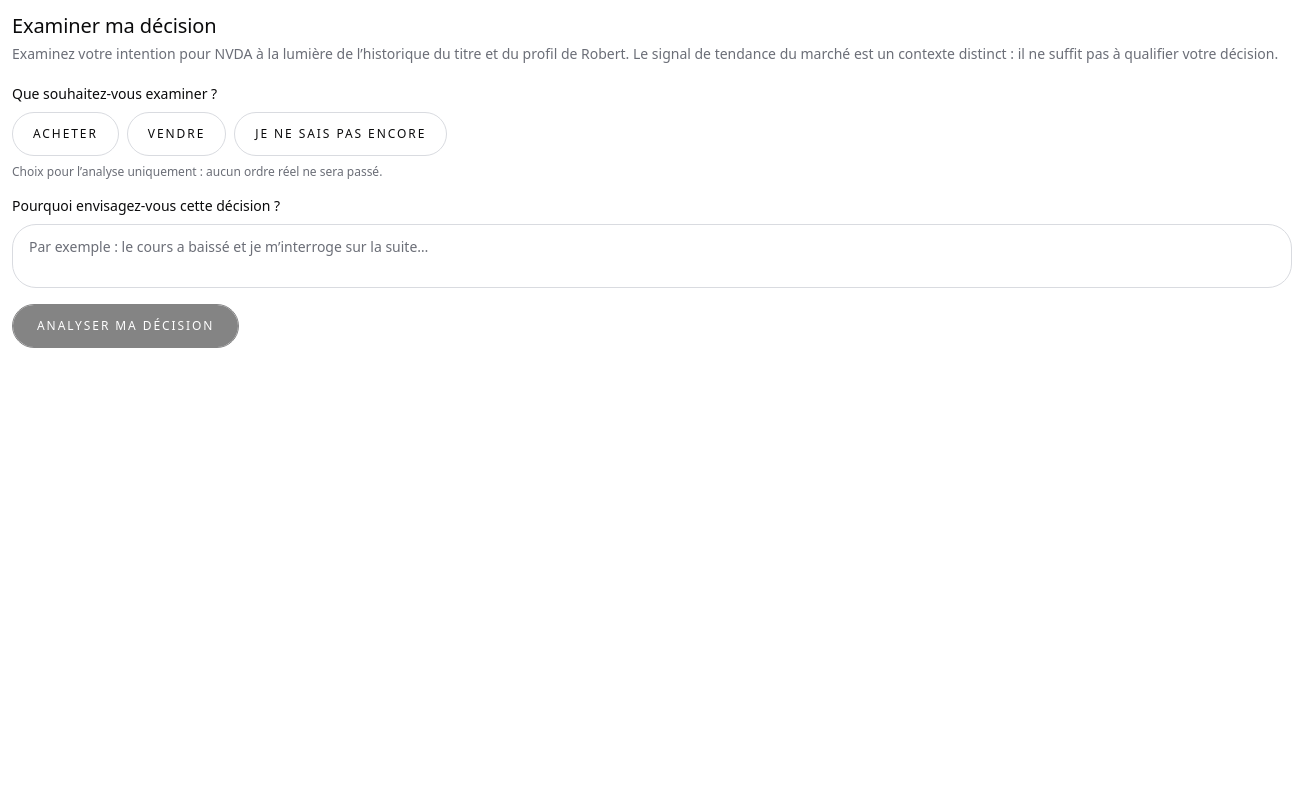
Test case: sends the selected title, active profile and message and shows a limited result
In the text box labelled "Pourquoi envisagez-vous cette décision ?": (652, 256) [12,224,1292,288], type "Je veux tout vendre"
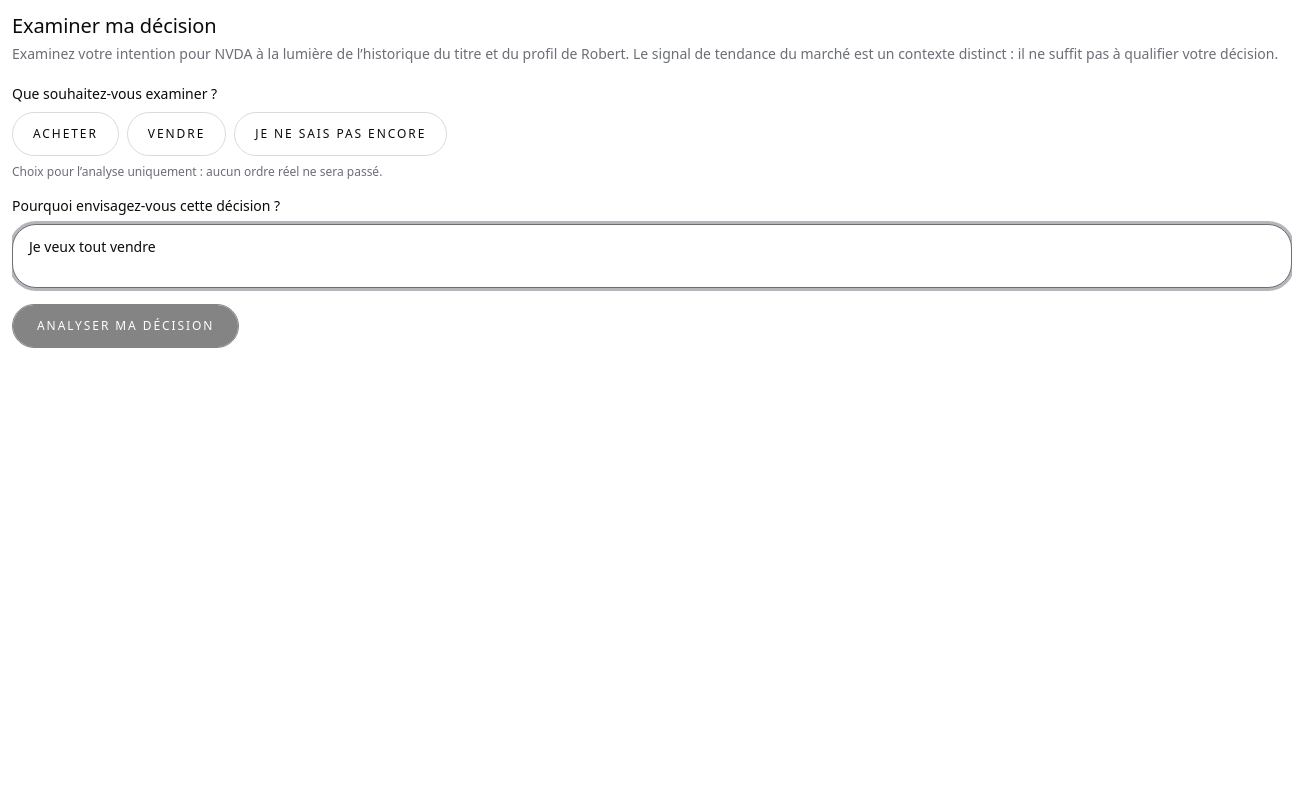
Expected: the button "Analyser ma décision" is disabled, [12,304,239,348]
Click the radio button labelled "Vendre": (176, 134) [127,112,226,156]
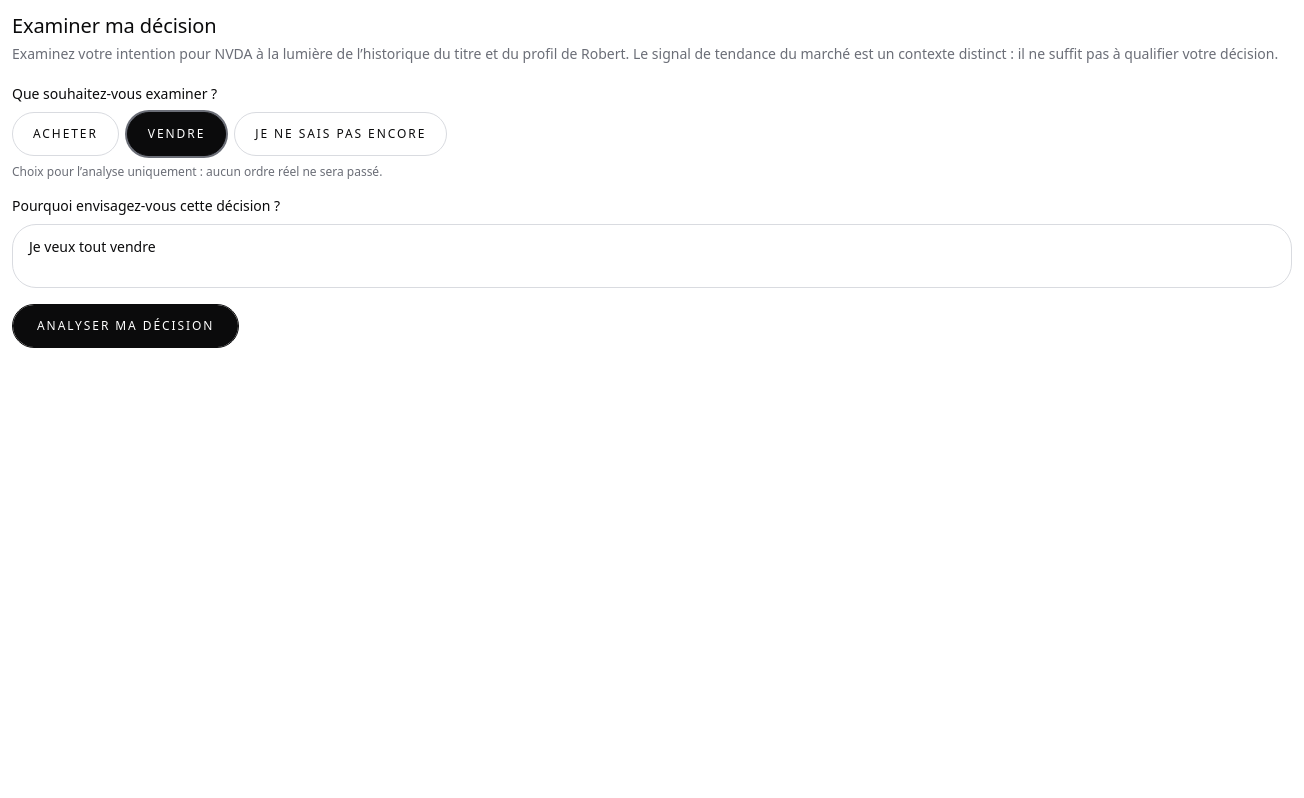
Click the button "Analyser ma décision": (126, 326) [12,304,239,348]
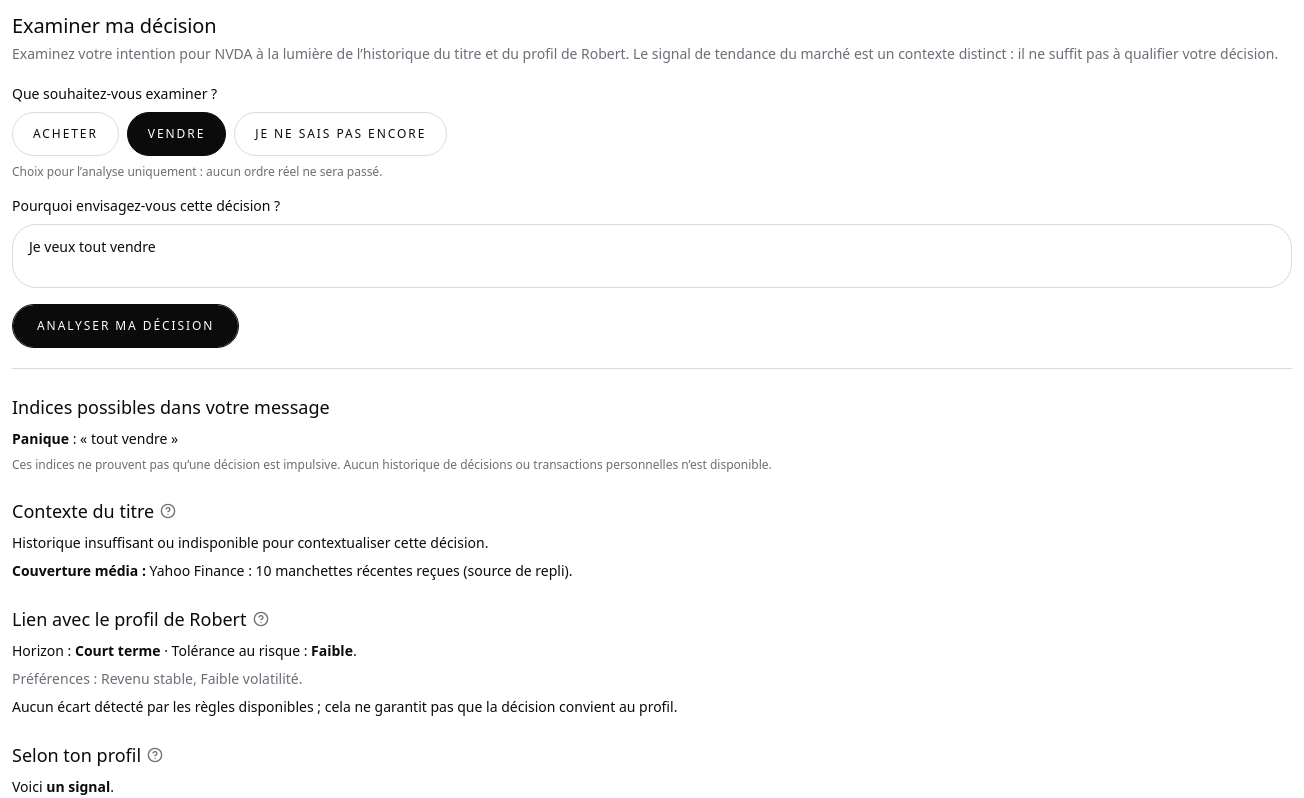
Result: the list item "Panique" shows "tout vendre" at [91,429,167,448]
Result: the text "Historique insuffisant" is shown at [12,533,488,552]
Result: the text "Yahoo Finance : 10 manchettes récentes" is shown at [150,561,572,580]
Click the button named "Voir la source des données : Contexte du titre": (168, 511) [160,503,176,519]
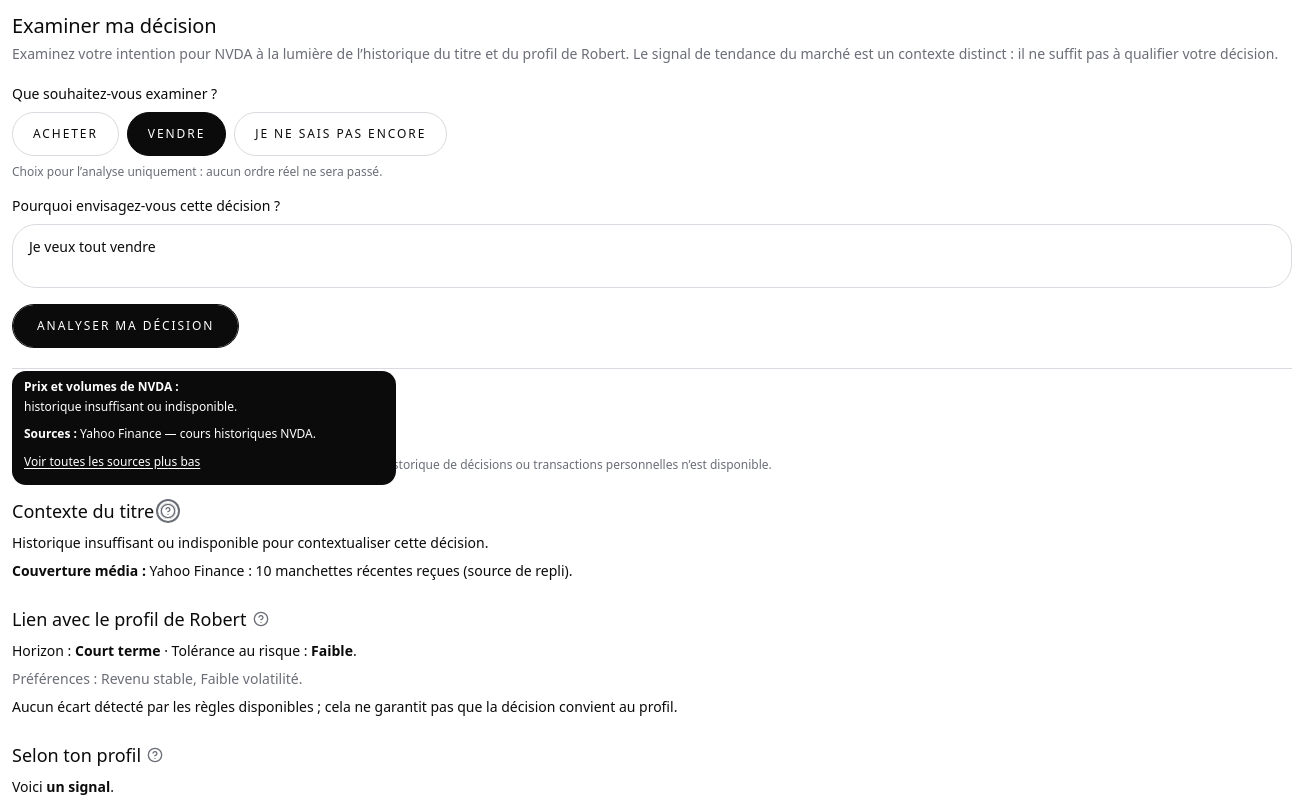
Click the radio button labelled "Acheter": (65, 134) [12,112,119,156]
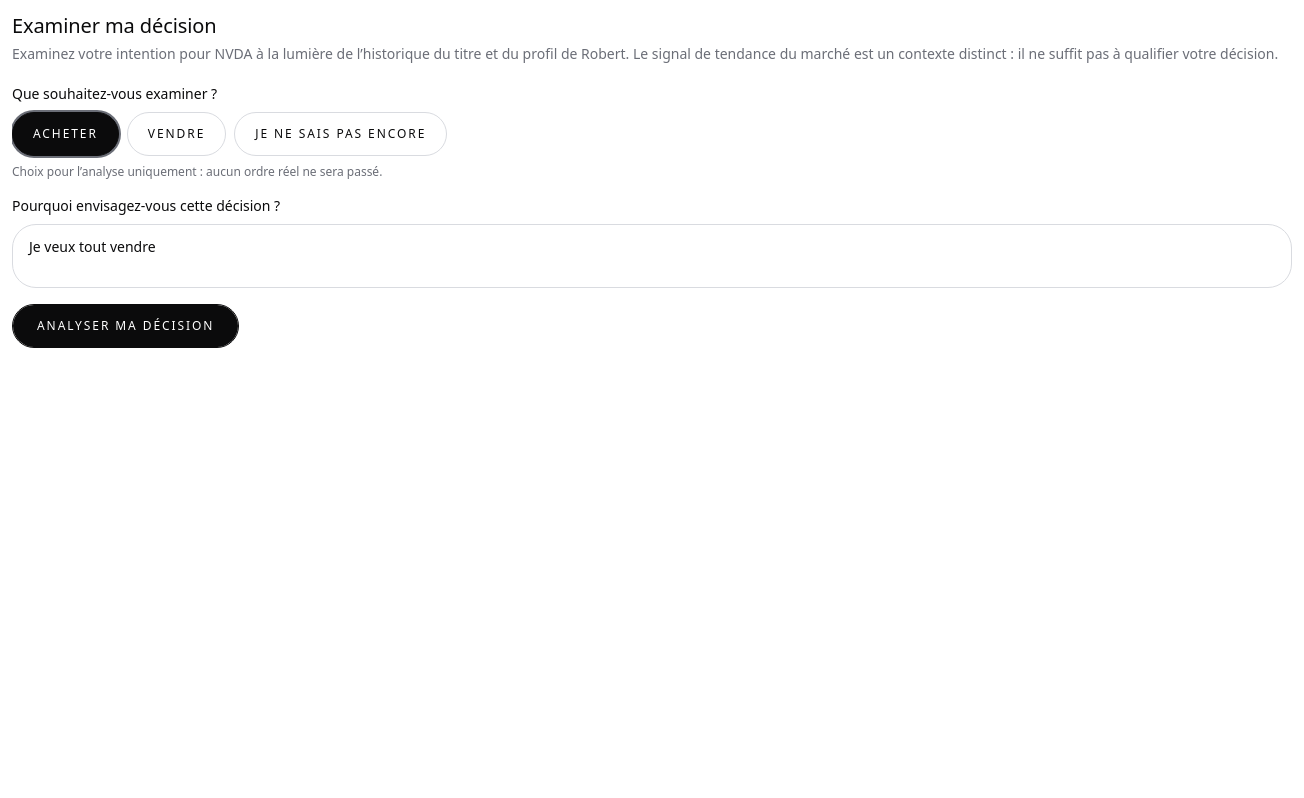
Result: the heading "Selon ton profil" is gone
